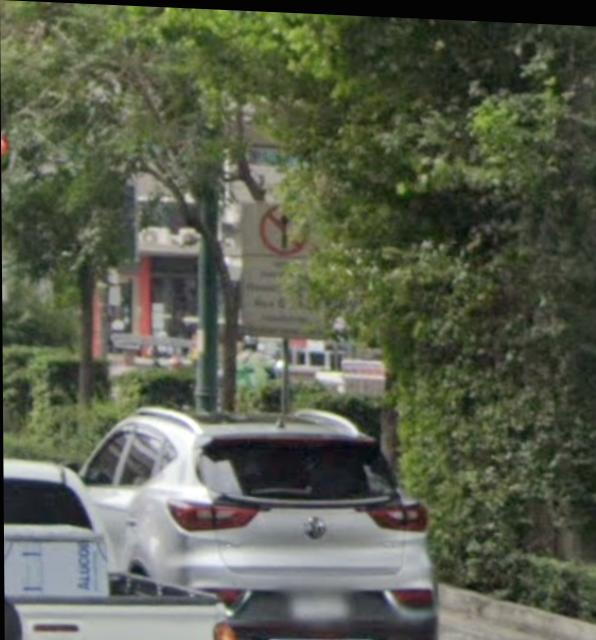not_go_straight: (260, 200, 314, 252)
